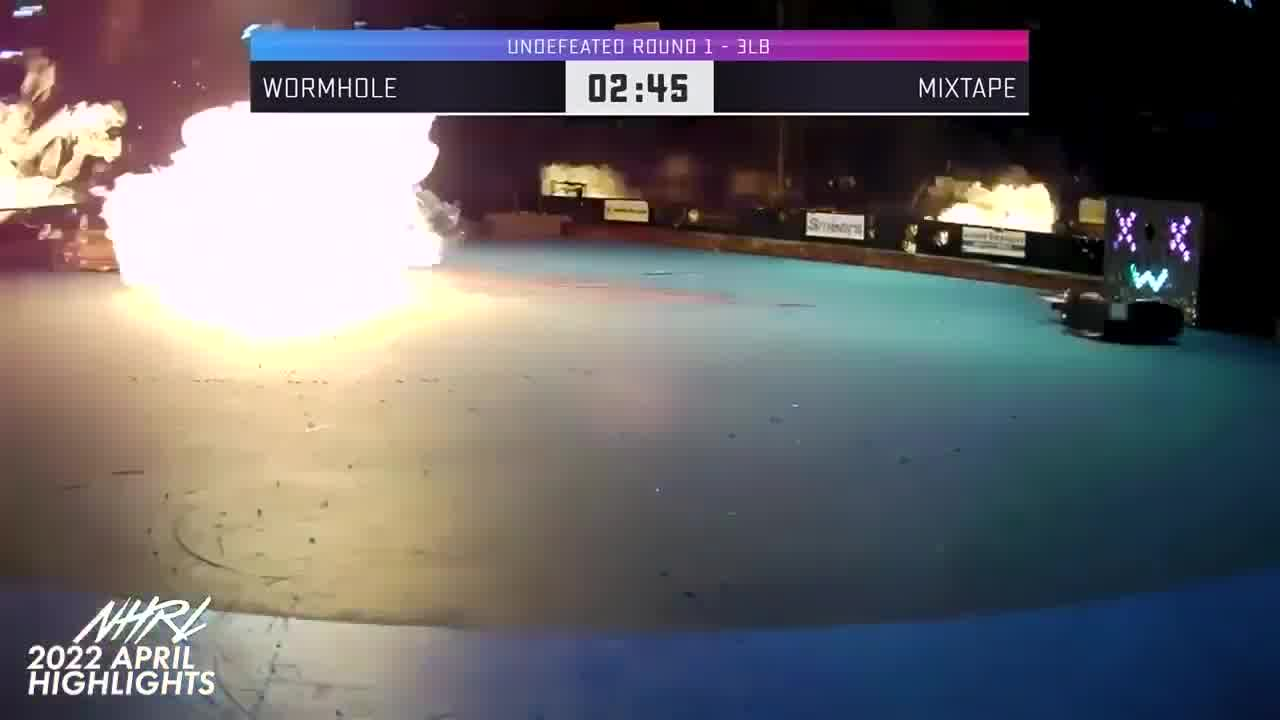combatbot: (1061, 288, 1183, 350)
housebot: (1100, 182, 1222, 321)
